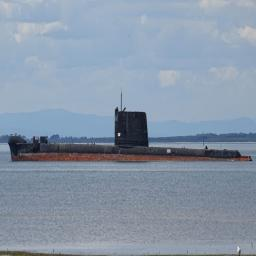submarine: (9, 87, 253, 162)
